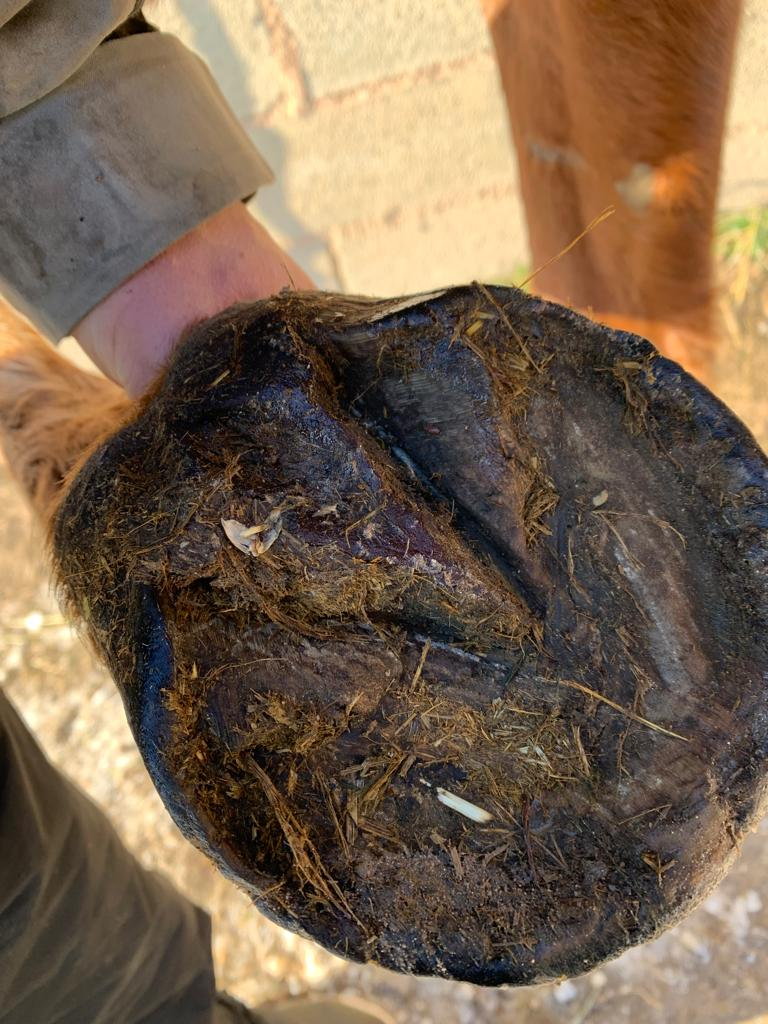horsesole: (129, 282, 768, 988)
